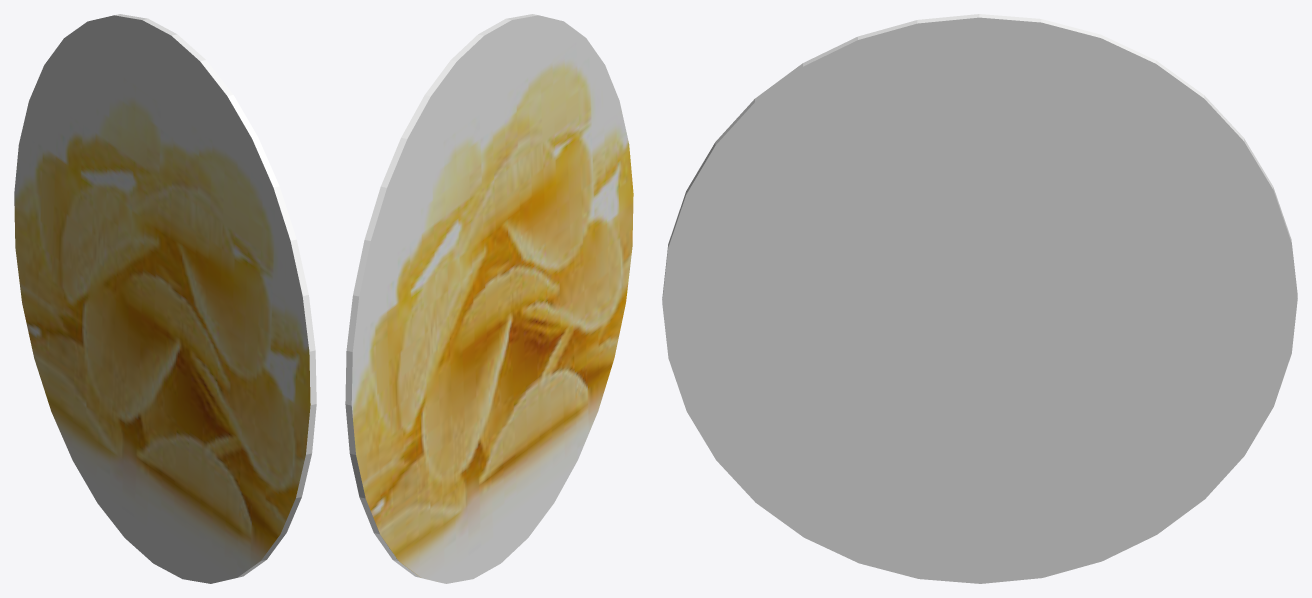
File: papas.glb
The picture shows the model from 3 angles, left to right: view 1: azimuth 30°, elevation 25°; view 2: azimuth 150°, elevation 25°; view 3: azimuth 270°, elevation 25°; orthographic projection. The views are drawn at different scales.
Parts seen in each view (by area): view 1: Cylinder; view 2: Cylinder; view 3: Cylinder.
Part boxes in pixels (box(x1,y1,x2,y2)): Cylinder: box(14, 14, 316, 583); Cylinder: box(345, 14, 633, 583); Cylinder: box(662, 14, 1297, 583).
Bounding box in the file's own units: 0.0315 × 0.6309 × 0.631.
Materials: 1 (1 with a texture image).
